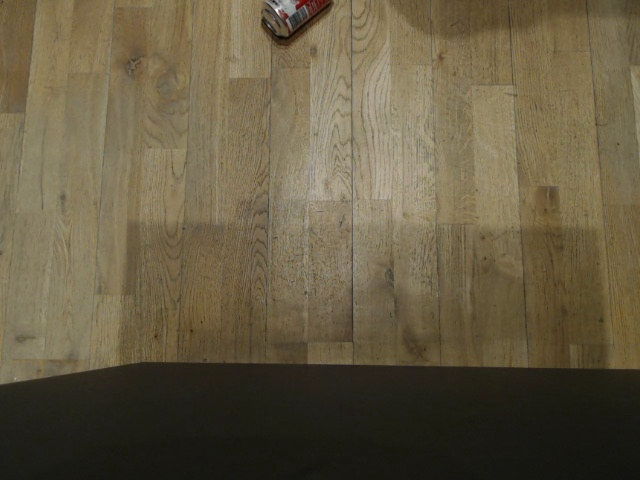cola: (256, 0, 321, 36)
